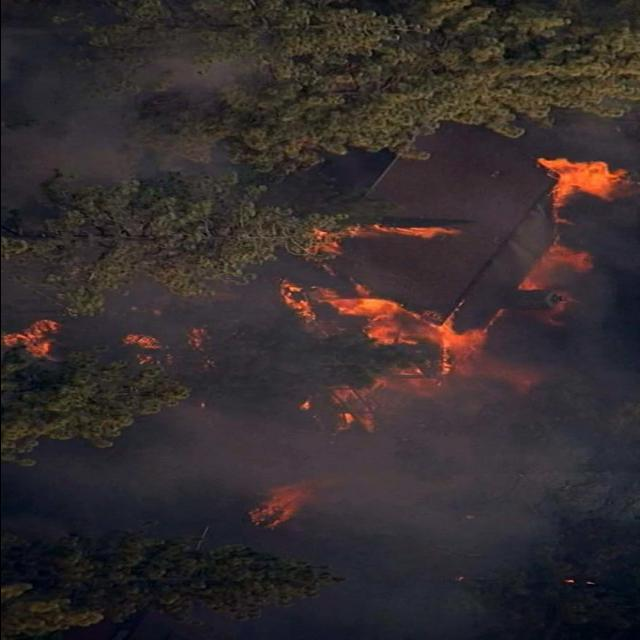Fire: (276, 220, 494, 433), (515, 153, 629, 320), (240, 478, 330, 534)
